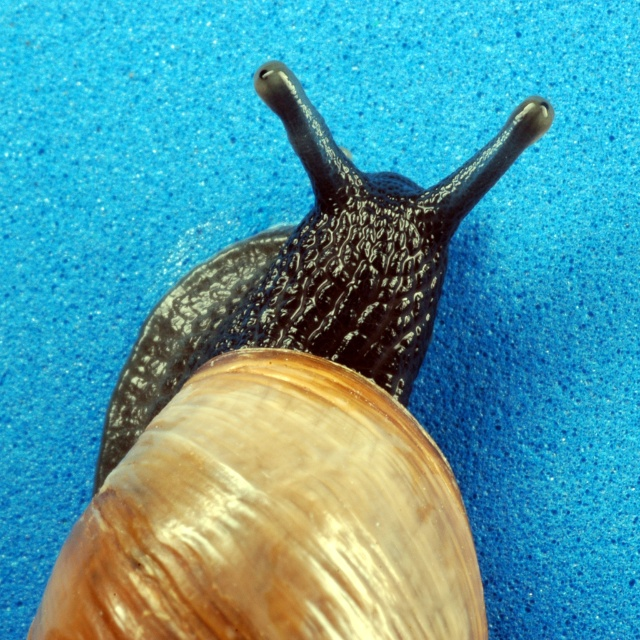Snail: (27, 59, 557, 640)
